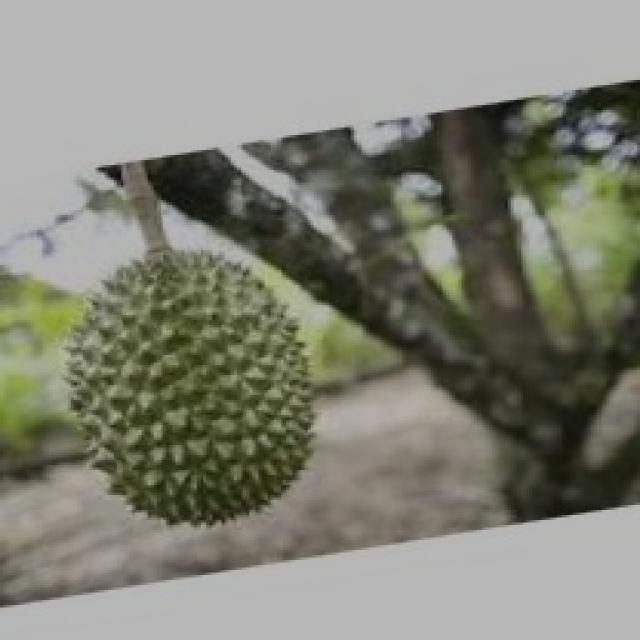fruit: (3, 208, 357, 558)
